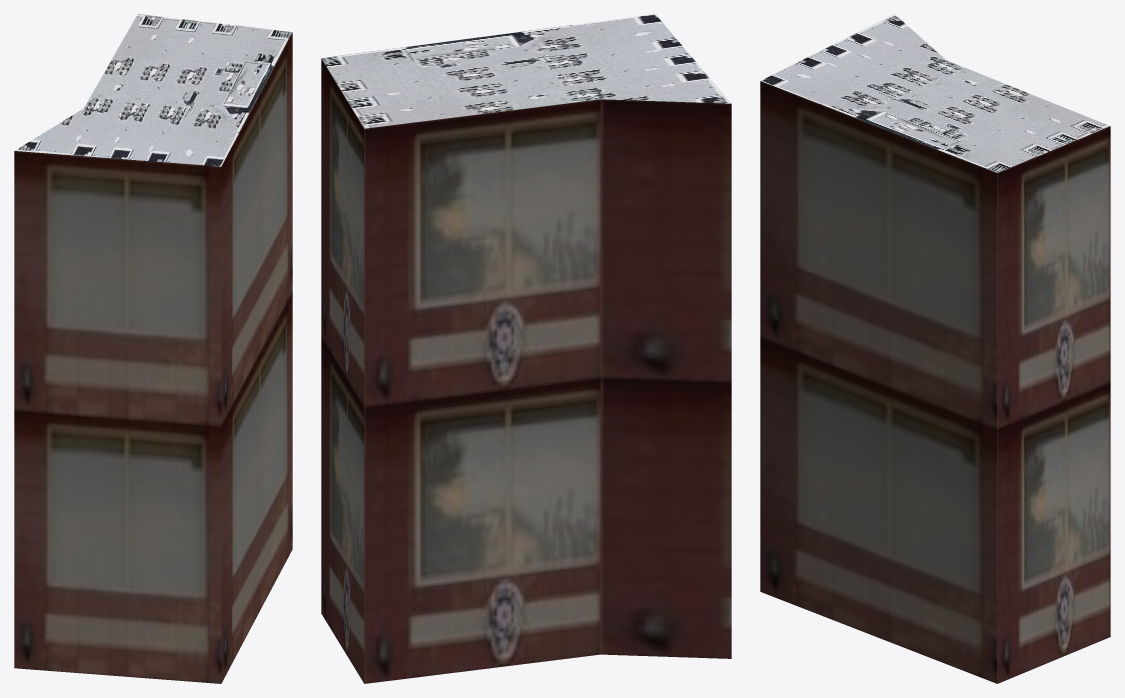
The model's file is ResTex__1650.fbx.
The picture shows the model from 3 angles, left to right: view 1: azimuth 30°, elevation 25°; view 2: azimuth 150°, elevation 25°; view 3: azimuth 270°, elevation 25°; orthographic projection. The views are drawn at different scales.
Visible parts, largest first — view 1: CityEngineMaterial_13_m, CityEngineMaterial_8_m; view 2: CityEngineMaterial_13_m, CityEngineMaterial_8_m; view 3: CityEngineMaterial_13_m, CityEngineMaterial_8_m.
Boxes of the visible parts, x1,y1,x2,y2 form: CityEngineMaterial_13_m: (14,32,292,683); CityEngineMaterial_8_m: (15,14,292,166); CityEngineMaterial_13_m: (321,59,731,683); CityEngineMaterial_8_m: (321,14,731,128); CityEngineMaterial_13_m: (760,81,1110,683); CityEngineMaterial_8_m: (761,14,1110,172).
Size of the model in its own units: 4.01 by 6 by 3.73.
2 materials, 2 textured.
